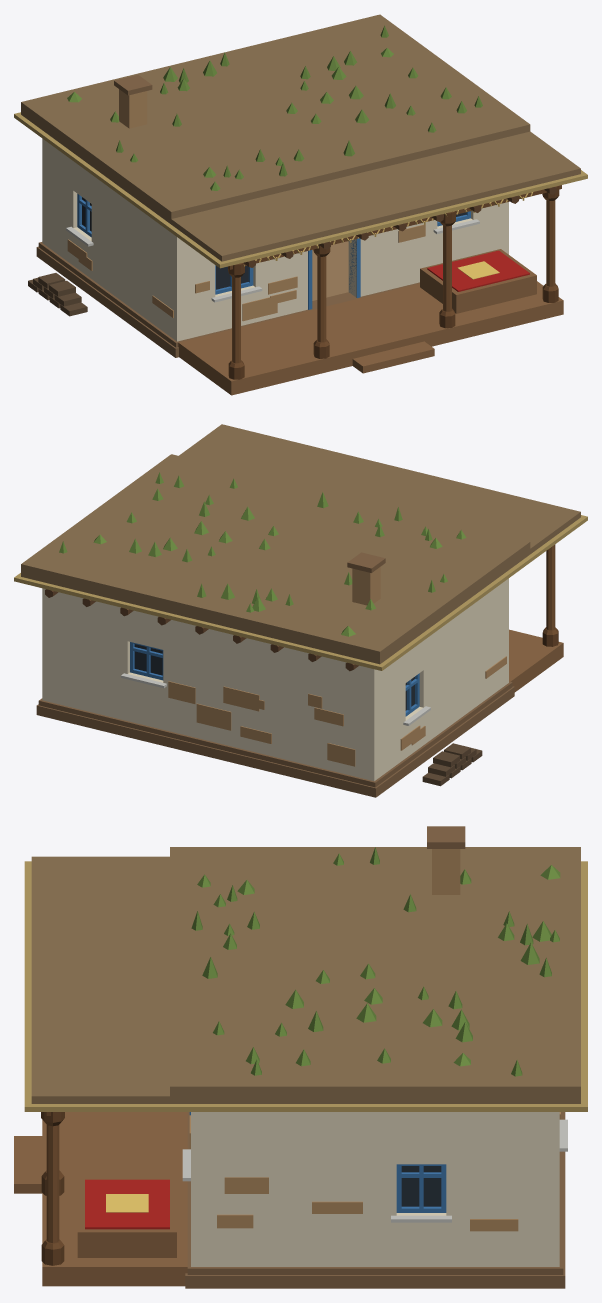
File: KG_House_Adobe.obj
The picture shows the model from 3 angles, top to bottom: view 1: azimuth 30°, elevation 25°; view 2: azimuth 150°, elevation 25°; view 3: azimuth 270°, elevation 25°; orthographic projection. The views are drawn at different scales.
Visible parts, largest first — view 1: KG_House_Adobe; view 2: KG_House_Adobe; view 3: KG_House_Adobe.
Boxes of the visible parts, x1,y1,x2,y2 form: KG_House_Adobe: (14, 14, 587, 395); KG_House_Adobe: (14, 424, 587, 797); KG_House_Adobe: (14, 826, 587, 1288).
Size of the model in its own units: 8.7 by 4.1 by 8.1.
